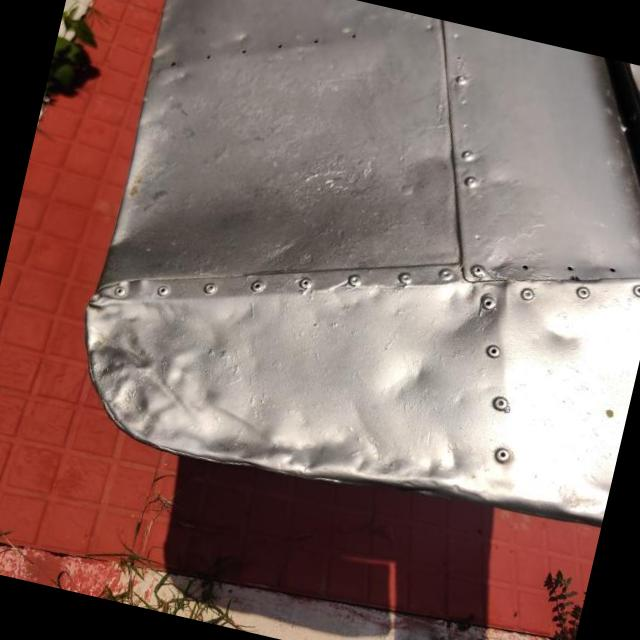Dent: (184, 367, 614, 526), (86, 281, 250, 462), (426, 280, 521, 368), (513, 298, 595, 378), (362, 339, 431, 414)
